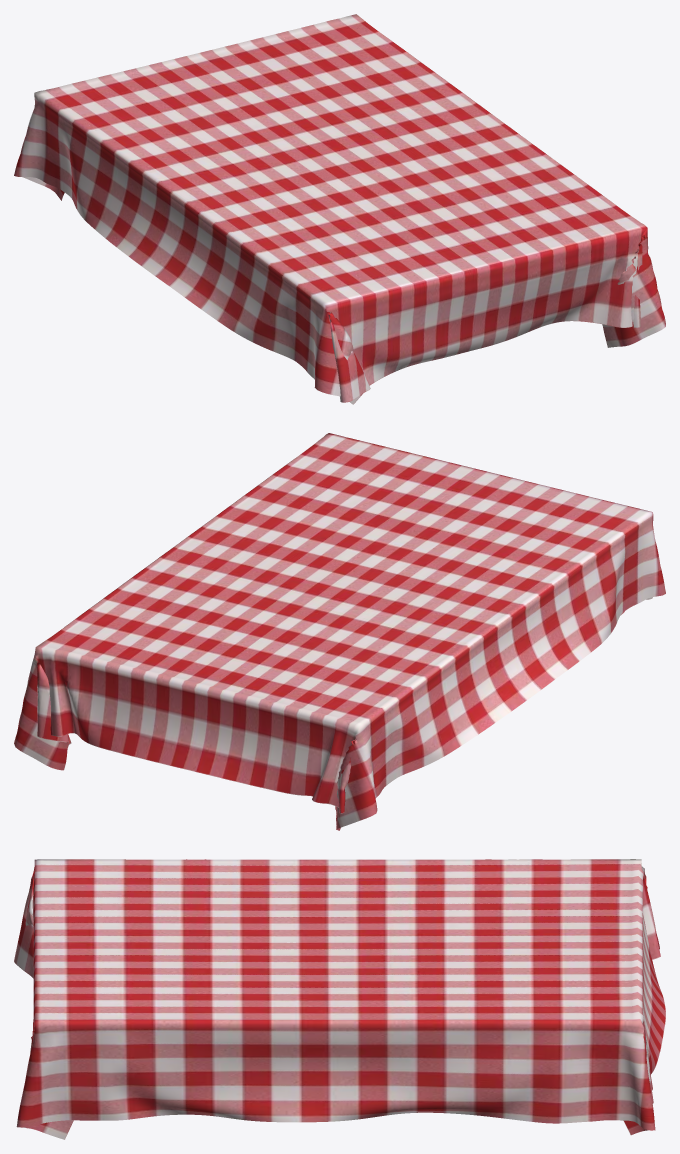
File: tablecloth.obj
3 views of the same model, one above another, from view 1: azimuth 30°, elevation 25°; view 2: azimuth 150°, elevation 25°; view 3: azimuth 270°, elevation 25° (orthographic). The views are drawn at different scales.
Visible parts, largest first — view 1: Plane; view 2: Plane; view 3: Plane.
Part boxes in pixels (left/top/right/bottom): Plane: left=14, top=14, right=665, bottom=404; Plane: left=14, top=433, right=665, bottom=830; Plane: left=14, top=859, right=665, bottom=1139.
Bounding box in the file's own units: 6.65 × 2.18 × 9.8.
